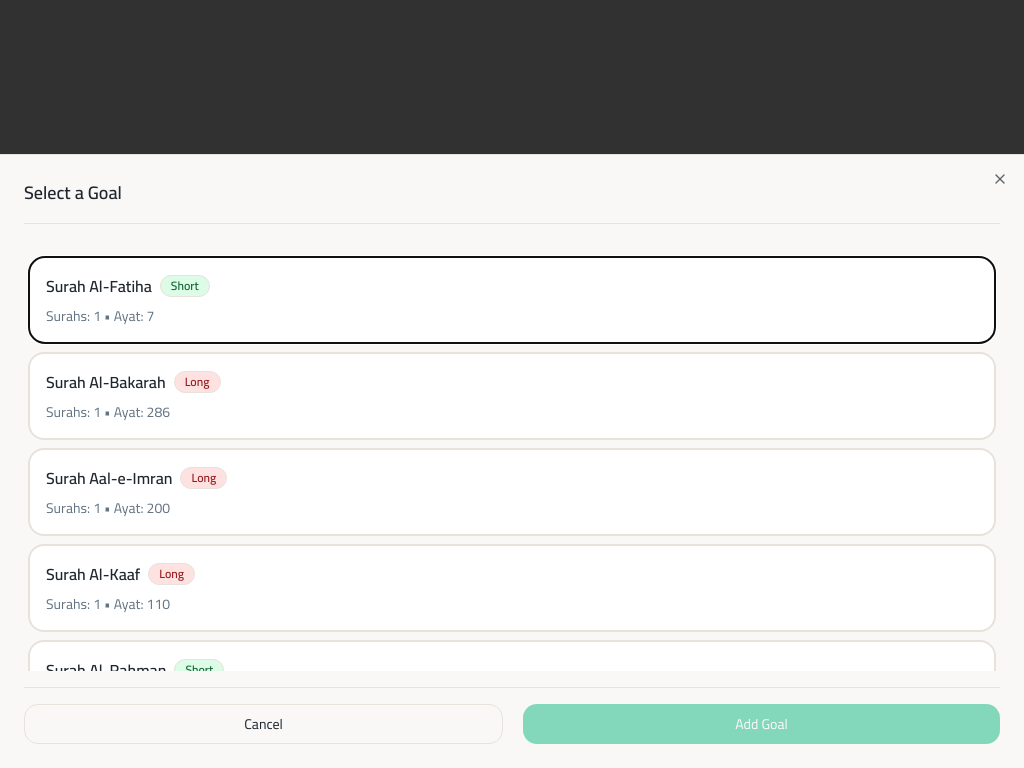
Test case: AddGoalModal › Goal Addition Tests › should disable buttons during loading
This screenshot has width=1024, height=768.
Click the button "Surah Al-Fatiha Short Surahs: 1 • Ayat: 7": click(99, 286) [28,256,996,344]
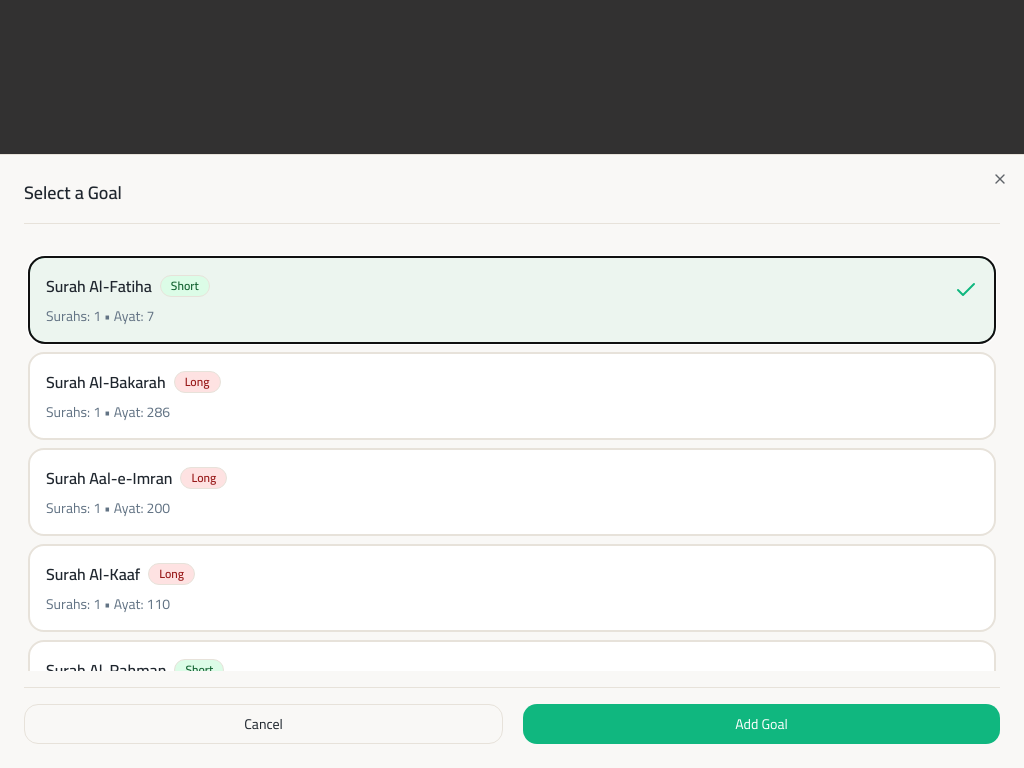
Click the button "Add Goal": click(762, 724) [523,704,1000,744]
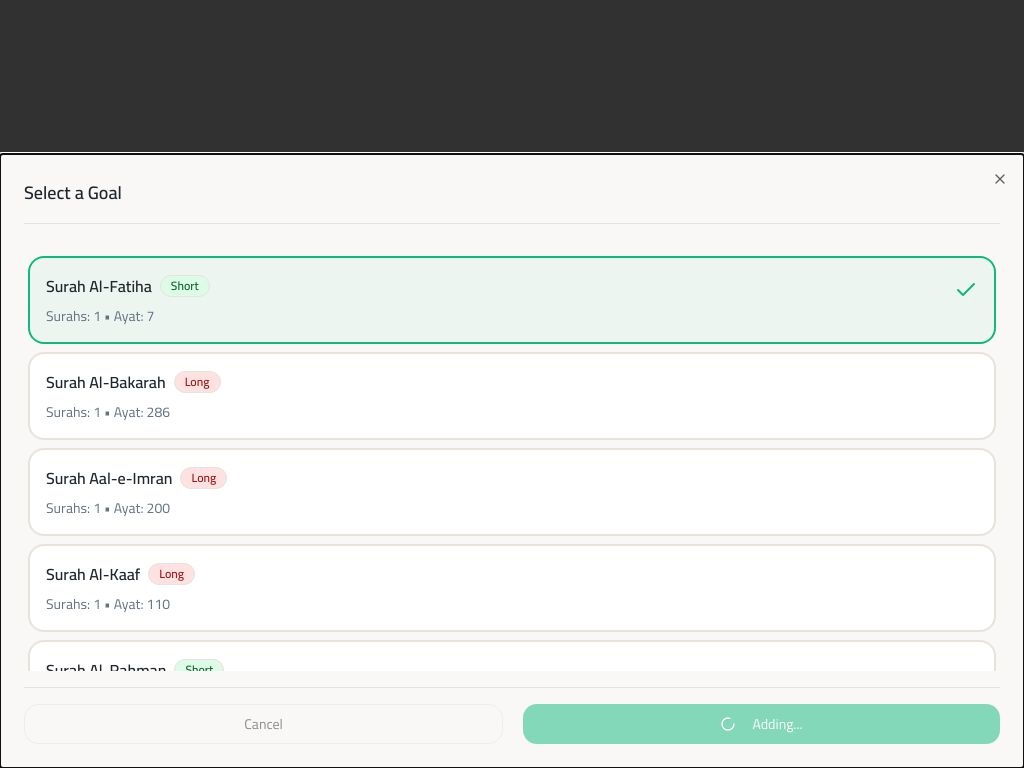
Result: the button "Add Goal" is disabled at [523,704,1000,744]
